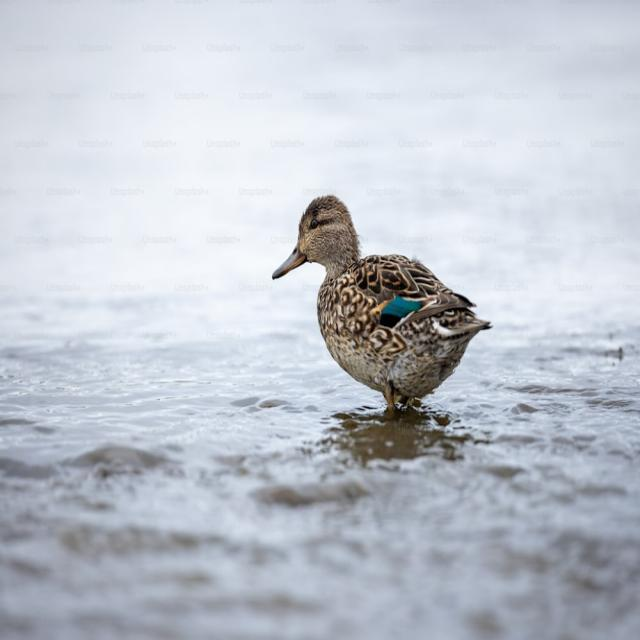ducks: (238, 171, 516, 468)
